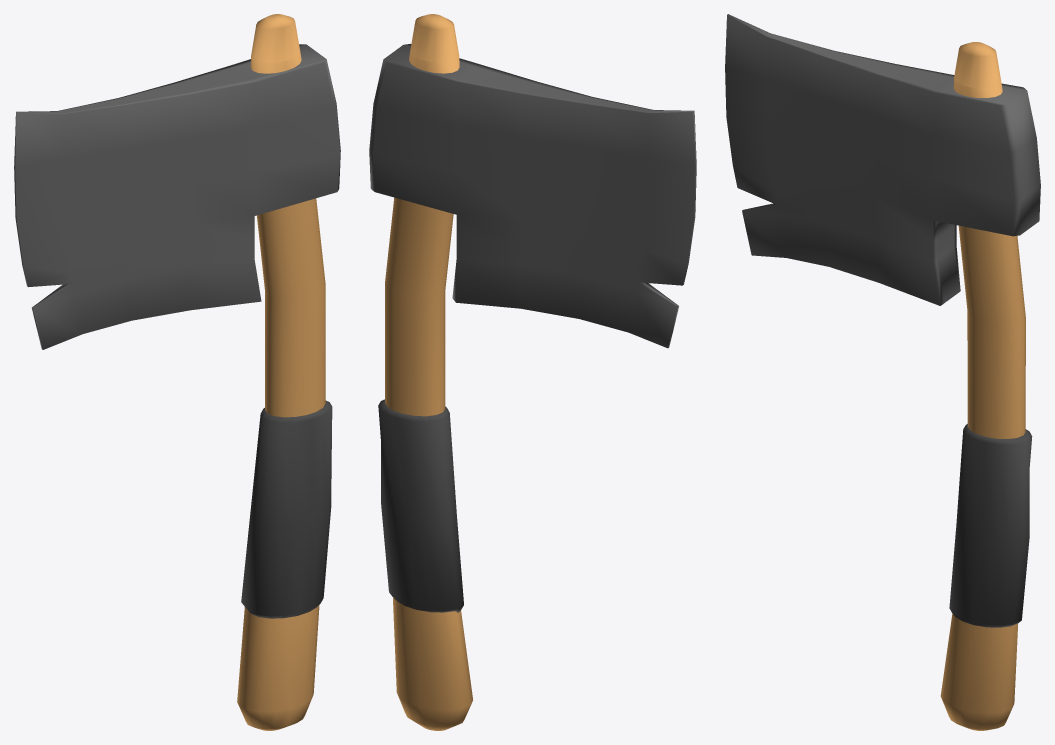
3 renders of one model, left to right at view 1: azimuth 30°, elevation 25°; view 2: azimuth 150°, elevation 25°; view 3: azimuth 330°, elevation 25°, orthographic. The views are drawn at different scales.
Visible parts, largest first — view 1: Cube, Cube.001, Cube.003; view 2: Cube, Cube.001, Cube.003; view 3: Cube, Cube.001, Cube.003.
Part boxes in pixels (x1,y1,x2,y2): Cube: (14,44,340,349); Cube.001: (237,14,325,730); Cube.003: (241,400,332,618); Cube: (369,44,696,348); Cube.001: (385,14,472,730); Cube.003: (378,399,463,612); Cube: (725,14,1040,305); Cube.001: (940,42,1025,730); Cube.003: (949,424,1032,627).
Size of the model in its own units: 27.54 by 58.9 by 4.44.
